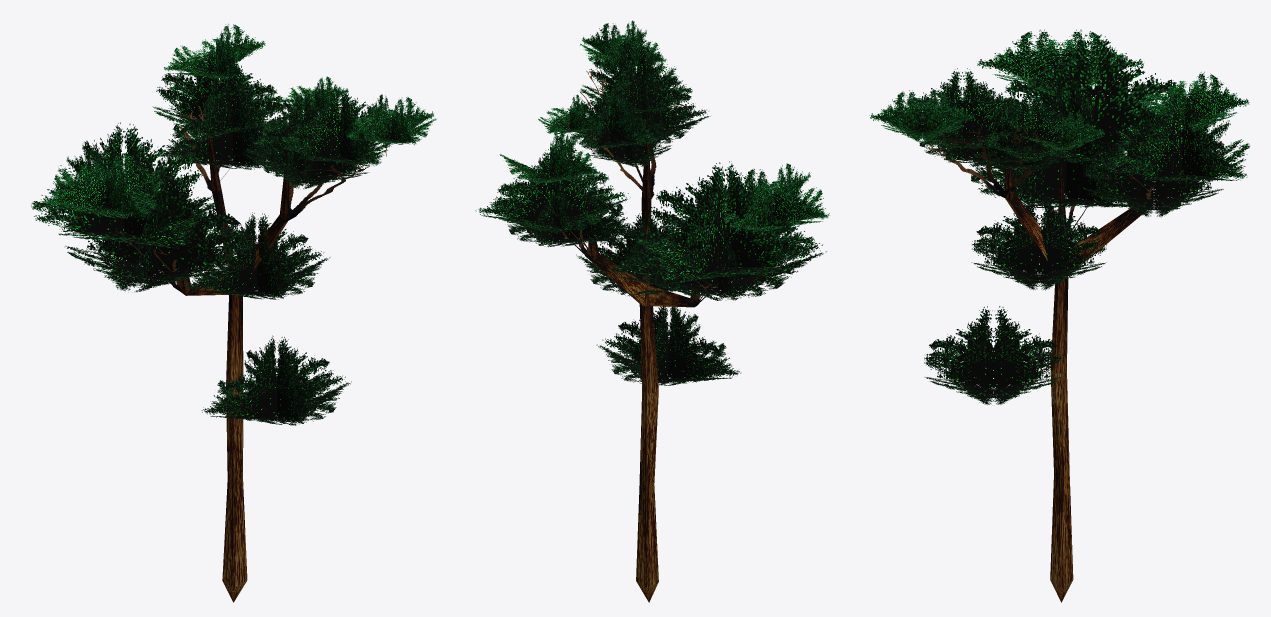
The model's file is groveden_2.fbx.
The picture shows the model from 3 angles, left to right: view 1: azimuth 30°, elevation 25°; view 2: azimuth 150°, elevation 25°; view 3: azimuth 270°, elevation 25°; orthographic projection. The views are drawn at different scales.
Visible parts, largest first — view 1: groveden_2; view 2: groveden_2; view 3: groveden_2.
Boxes of the visible parts, x1,y1,x2,y2 form: groveden_2: (31,23,436,602); groveden_2: (475,20,829,602); groveden_2: (869,29,1249,602).
Bounding box in the file's own units: 1695 × 2535 × 1577.
